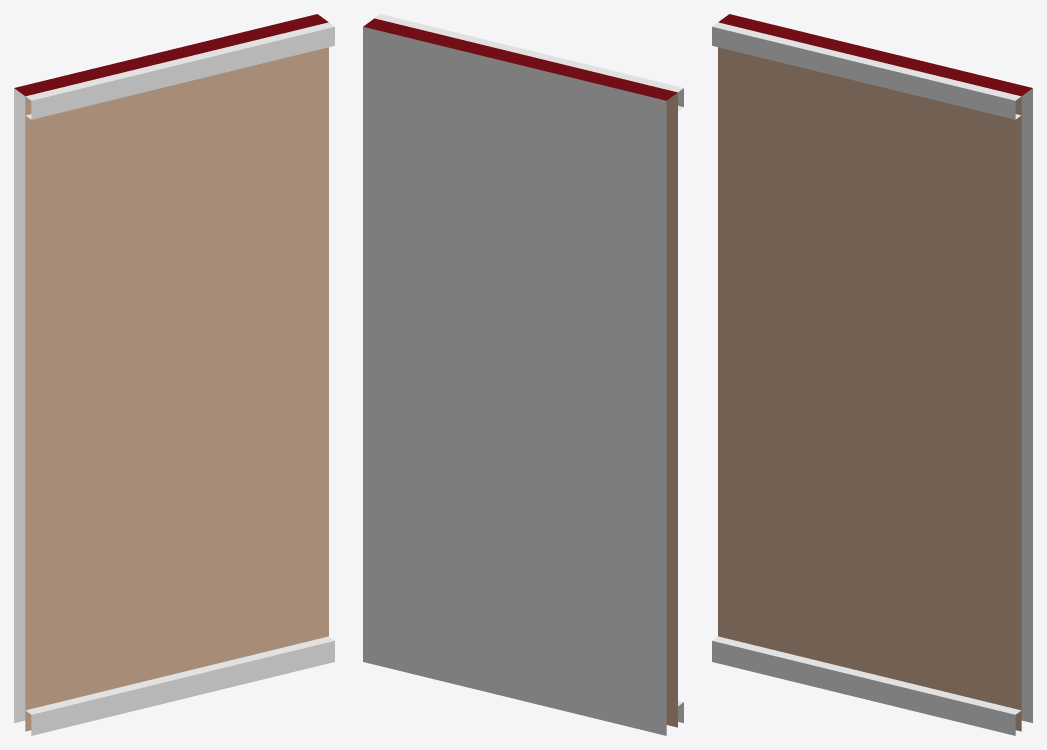
File: Wall02_half.fbx
3 renders of one model, left to right at view 1: azimuth 30°, elevation 25°; view 2: azimuth 150°, elevation 25°; view 3: azimuth 330°, elevation 25°, orthographic.
Visible parts, largest first — view 1: Cube.006; view 2: Cube.006; view 3: Cube.006.
Boxes of the visible parts, <box> form: Cube.006: <box>14,14,334,735</box>; Cube.006: <box>363,14,683,735</box>; Cube.006: <box>712,14,1032,735</box>.
Size of the model in its own units: 200 by 400 by 19.86.
